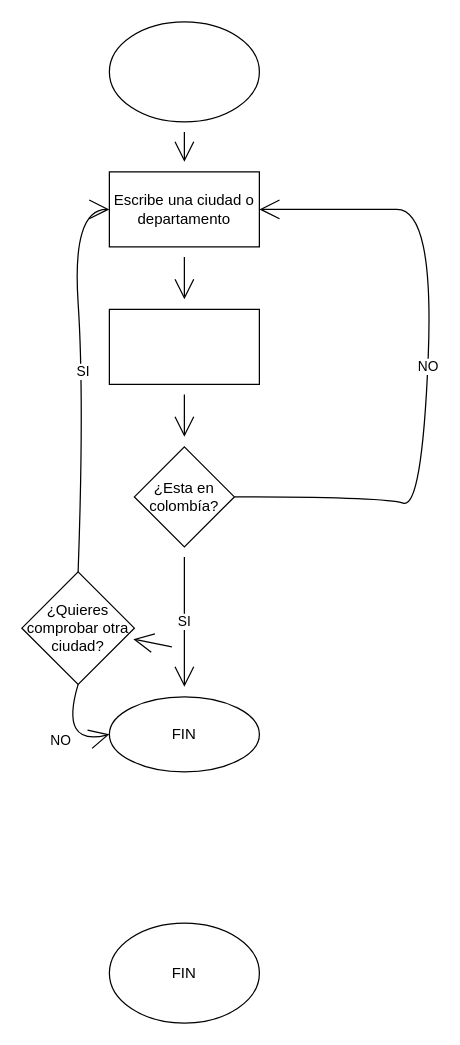
This 460x1045 diagram has some shape labels left out. The shapes that lost their labels are listed below. From the top down, each one's centre as x and y in pixels, then its label:
At [183,71]: "inicio".
At [183,346]: "Villa de leyva".
